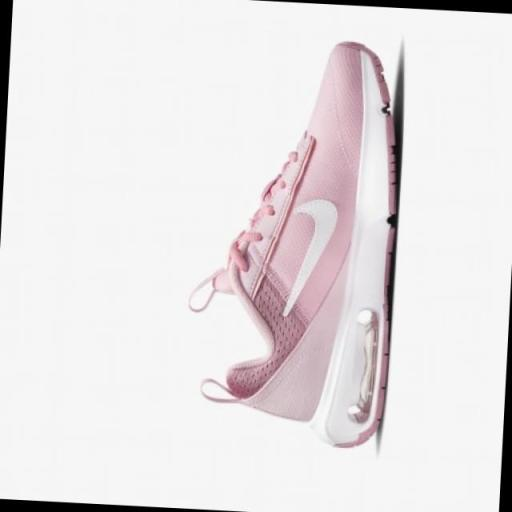Nike: (277, 187, 344, 328)
